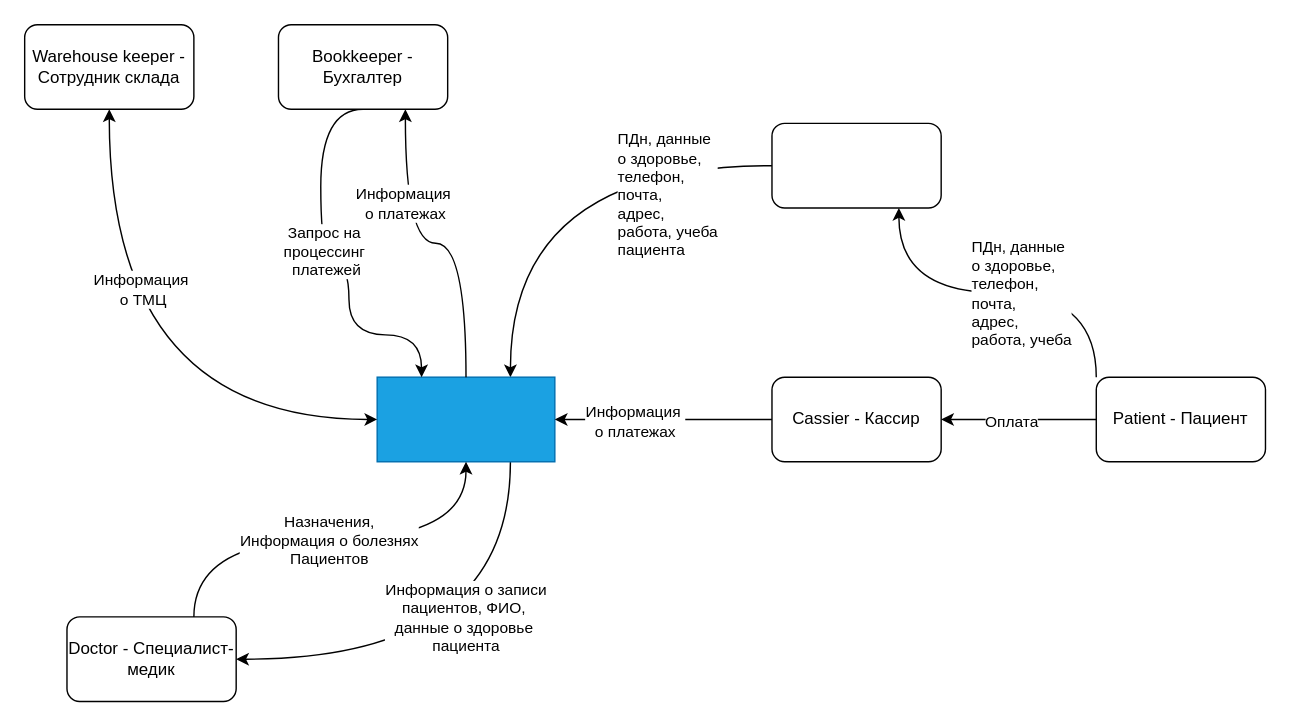
Image size: 1290x726. Some labels were removed from this diagram. Each missing label, with the centre of its shape:
Administrator - Сотрудник ресепшена: point (856, 165)
Процесс: "Система оказания медицинских услуг «Медикаменте»".: point (465, 419)
